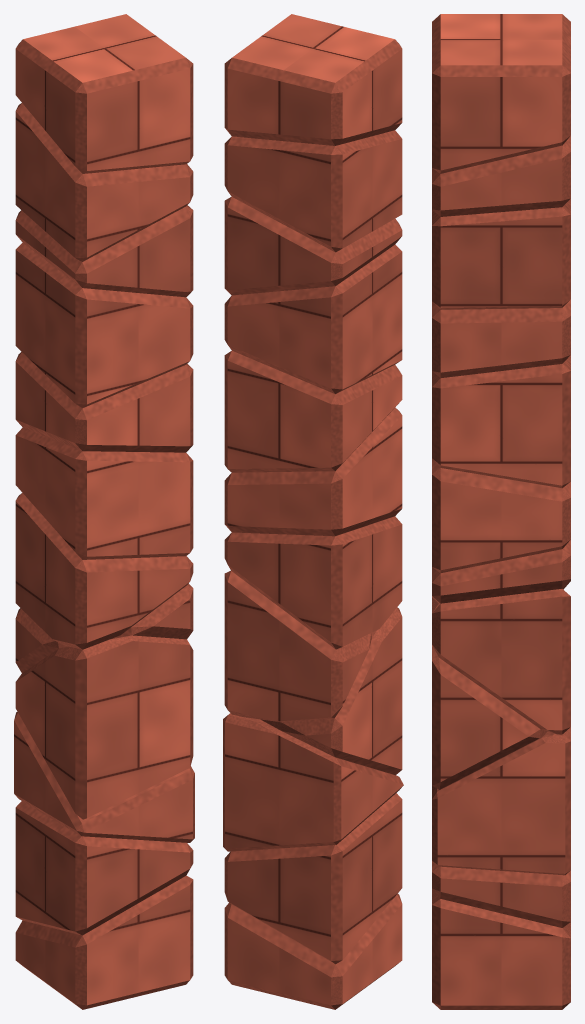
The model's file is Kit_Brick_Joint_Fractured.glb.
The picture shows the model from 3 angles, left to right: view 1: azimuth 30°, elevation 25°; view 2: azimuth 150°, elevation 25°; view 3: azimuth 270°, elevation 25°; orthographic projection.
Parts seen in each view (by area): view 1: Kit_Brick_Joint_frag_04, Kit_Brick_Joint_frag_12, Kit_Brick_Joint_frag_09, Kit_Brick_Joint_frag_07, Kit_Brick_Joint_frag_02, Kit_Brick_Joint_frag_01, Kit_Brick_Joint_frag_06, Kit_Brick_Joint_frag_11, Kit_Brick_Joint_frag_08, Kit_Brick_Joint_frag_03, Kit_Brick_Joint_frag_10, Kit_Brick_Joint_frag_05; view 2: Kit_Brick_Joint_frag_12, Kit_Brick_Joint_frag_02, Kit_Brick_Joint_frag_09, Kit_Brick_Joint_frag_03, Kit_Brick_Joint_frag_11, Kit_Brick_Joint_frag_06, Kit_Brick_Joint_frag_08, Kit_Brick_Joint_frag_05, Kit_Brick_Joint_frag_07, Kit_Brick_Joint_frag_01, Kit_Brick_Joint_frag_10, Kit_Brick_Joint_frag_04; view 3: Kit_Brick_Joint_frag_12, Kit_Brick_Joint_frag_03, Kit_Brick_Joint_frag_08, Kit_Brick_Joint_frag_05, Kit_Brick_Joint_frag_10, Kit_Brick_Joint_frag_01, Kit_Brick_Joint_frag_07, Kit_Brick_Joint_frag_09, Kit_Brick_Joint_frag_04, Kit_Brick_Joint_frag_11, Kit_Brick_Joint_frag_02, Kit_Brick_Joint_frag_06.
Part boxes in pixels (<box>): Kit_Brick_Joint_frag_04: <box>15,635,193,819</box>; Kit_Brick_Joint_frag_12: <box>15,14,193,173</box>; Kit_Brick_Joint_frag_09: <box>15,242,193,408</box>; Kit_Brick_Joint_frag_07: <box>15,427,193,559</box>; Kit_Brick_Joint_frag_02: <box>15,801,193,935</box>; Kit_Brick_Joint_frag_01: <box>15,875,193,1009</box>; Kit_Brick_Joint_frag_06: <box>15,493,193,649</box>; Kit_Brick_Joint_frag_11: <box>15,103,193,261</box>; Kit_Brick_Joint_frag_08: <box>15,352,193,452</box>; Kit_Brick_Joint_frag_03: <box>14,712,194,842</box>; Kit_Brick_Joint_frag_10: <box>15,205,193,297</box>; Kit_Brick_Joint_frag_05: <box>15,583,193,672</box>; Kit_Brick_Joint_frag_12: <box>224,14,402,145</box>; Kit_Brick_Joint_frag_02: <box>224,793,402,964</box>; Kit_Brick_Joint_frag_09: <box>224,244,402,394</box>; Kit_Brick_Joint_frag_03: <box>223,713,403,851</box>; Kit_Brick_Joint_frag_11: <box>224,130,402,252</box>; Kit_Brick_Joint_frag_06: <box>224,516,402,649</box>; Kit_Brick_Joint_frag_08: <box>224,351,402,472</box>; Kit_Brick_Joint_frag_05: <box>224,570,371,722</box>; Kit_Brick_Joint_frag_07: <box>224,407,402,536</box>; Kit_Brick_Joint_frag_01: <box>224,894,402,1009</box>; Kit_Brick_Joint_frag_10: <box>224,196,402,295</box>; Kit_Brick_Joint_frag_04: <box>261,607,402,775</box>; Kit_Brick_Joint_frag_12: <box>432,14,570,173</box>; Kit_Brick_Joint_frag_03: <box>432,727,570,875</box>; Kit_Brick_Joint_frag_08: <box>432,355,570,488</box>; Kit_Brick_Joint_frag_05: <box>432,589,570,734</box>; Kit_Brick_Joint_frag_10: <box>432,198,570,309</box>; Kit_Brick_Joint_frag_01: <box>432,889,570,1009</box>; Kit_Brick_Joint_frag_07: <box>432,458,570,573</box>; Kit_Brick_Joint_frag_09: <box>432,299,570,377</box>; Kit_Brick_Joint_frag_04: <box>432,597,546,789</box>; Kit_Brick_Joint_frag_11: <box>432,136,570,216</box>; Kit_Brick_Joint_frag_02: <box>432,861,570,927</box>; Kit_Brick_Joint_frag_06: <box>432,540,570,603</box>.
Size of what is drawn, in the model's own units: 0.4 by 3 by 0.4.
Materials: 2 (2 with a texture image).
